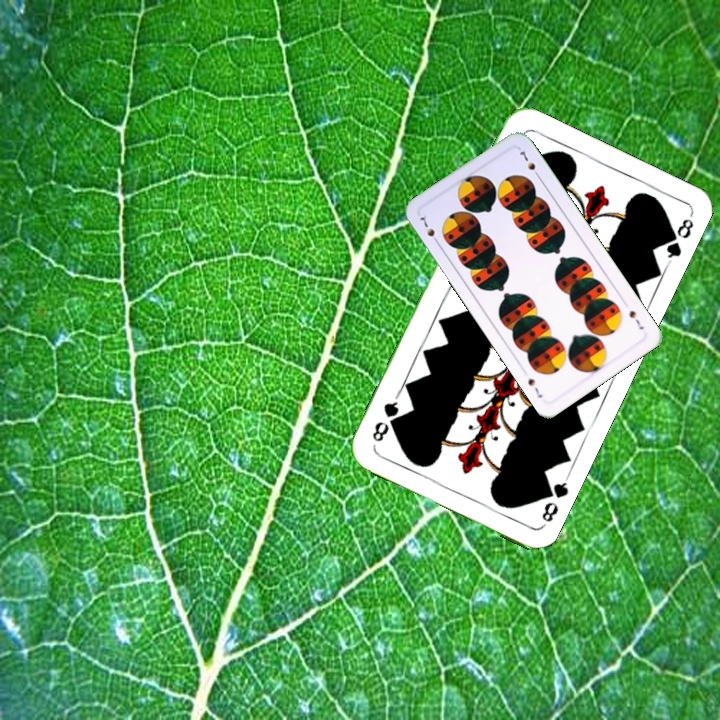G8: (536, 473, 571, 529)
S7: (416, 211, 442, 248), (625, 306, 647, 332)
